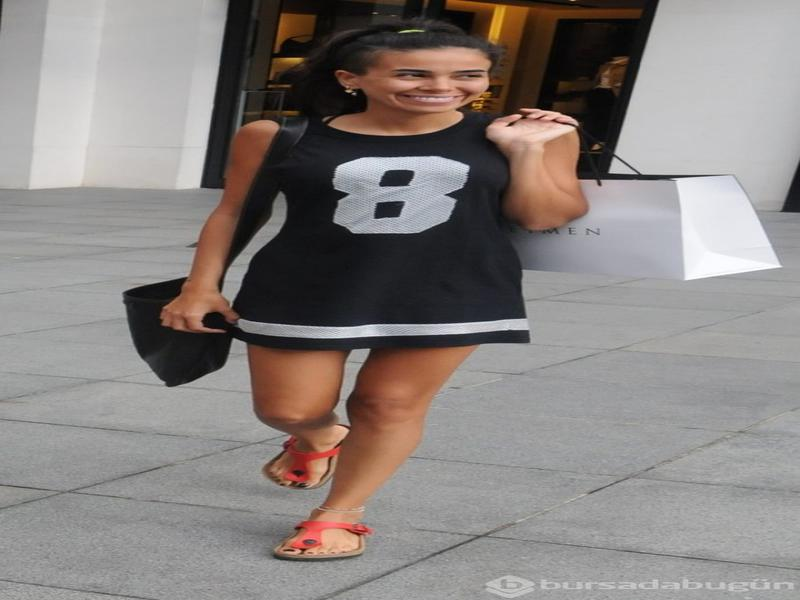human: (160, 17, 588, 564)
